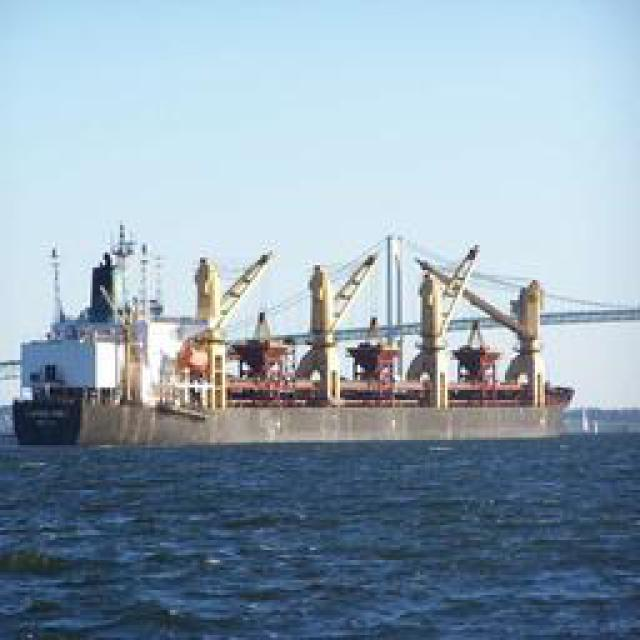Ship: (11, 225, 591, 448)
